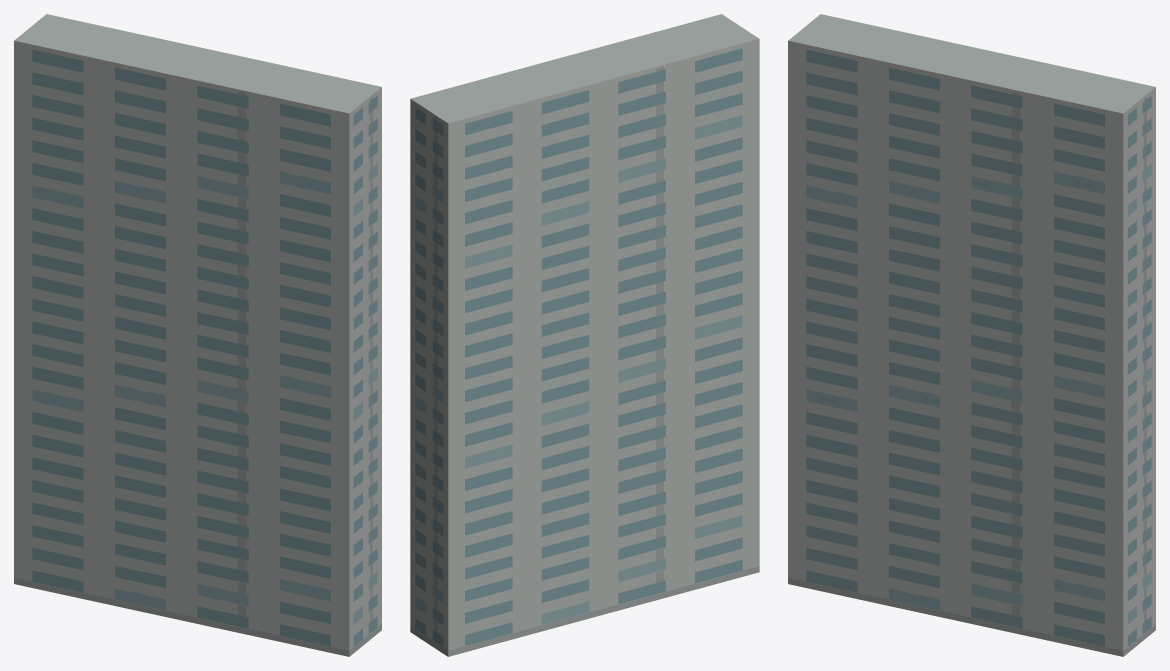
The model's file is residential-c322fe3b-5009-48a4-aec1-b111abfa3dda.glb.
3 views of the same model, side by side, from view 1: azimuth 90°, elevation 25°; view 2: azimuth 150°, elevation 25°; view 3: azimuth 270°, elevation 25° (orthographic).
Visible parts, largest first — view 1: residential-c322fe3b-5009-48a4-aec1-b111abfa3dda.tmp; view 2: residential-c322fe3b-5009-48a4-aec1-b111abfa3dda.tmp; view 3: residential-c322fe3b-5009-48a4-aec1-b111abfa3dda.tmp.
Boxes of the visible parts, x1,y1,x2,y2 form: residential-c322fe3b-5009-48a4-aec1-b111abfa3dda.tmp: (14, 14, 381, 656); residential-c322fe3b-5009-48a4-aec1-b111abfa3dda.tmp: (410, 14, 759, 656); residential-c322fe3b-5009-48a4-aec1-b111abfa3dda.tmp: (788, 14, 1155, 656).
Size of the model in its own units: 28.78 by 73.2 by 44.91.
